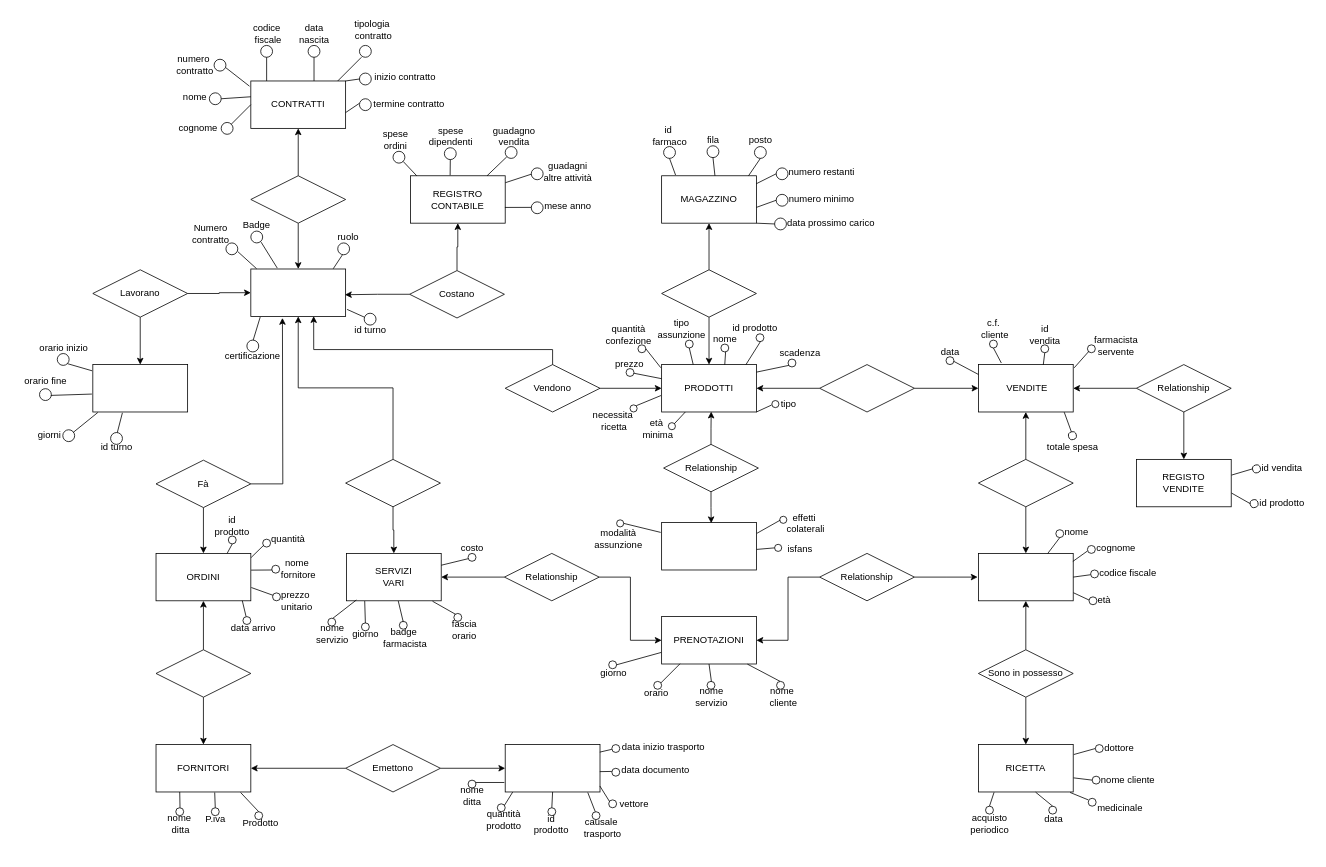
The diagram is 1326 pixels wide and 867 high, and some of its shapes have lost their labels. Each missing label, with the centre of its shape:
"Assunzione" goes at point 298,199.
"BOLLA D' ACQUISTO" goes at point 552,768.
"BUGIARDINO" goes at point 708,546.
"CLIENTI" goes at point 1025,577.
"Comprati" goes at point 1025,483.
"DIPENDINTI" goes at point 298,292.
"Gestiti" goes at point 203,673.
"Praticano" goes at point 392,483.
"Presenti" goes at point 708,293.
"TURNI" goes at point 140,388.
"Venduti" goes at point 866,388.
